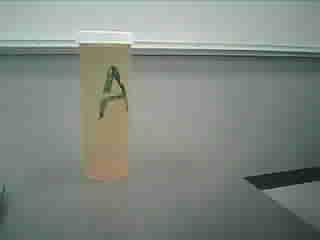Bottle A: (75, 27, 136, 185)
